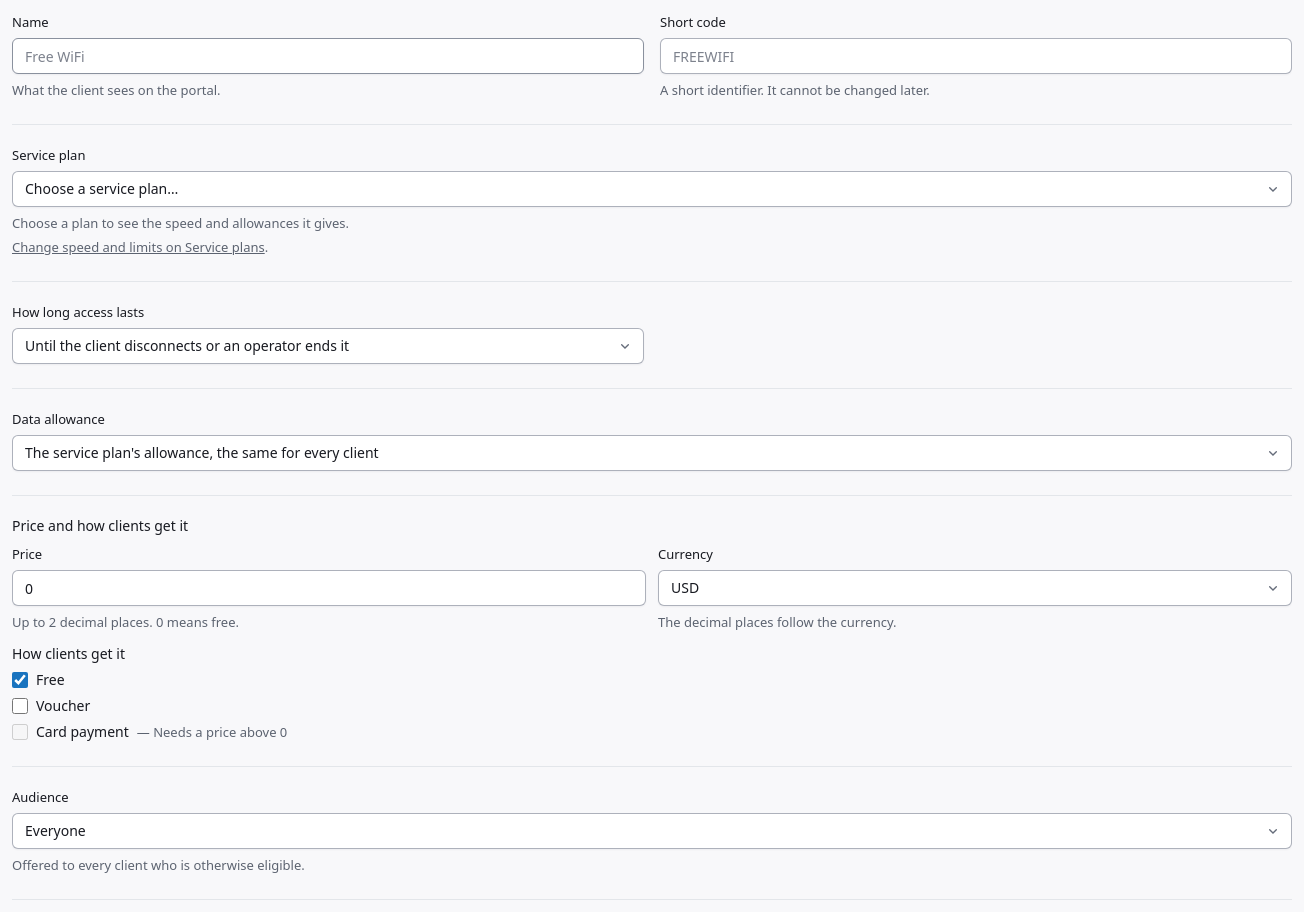
Test: Package defaults › says when there is no default active account at all
The width and height of the screenshot is (1304, 912).
Step 1. Type "5" into the field labelled "Price" → (329, 588), box [12,570,646,606]
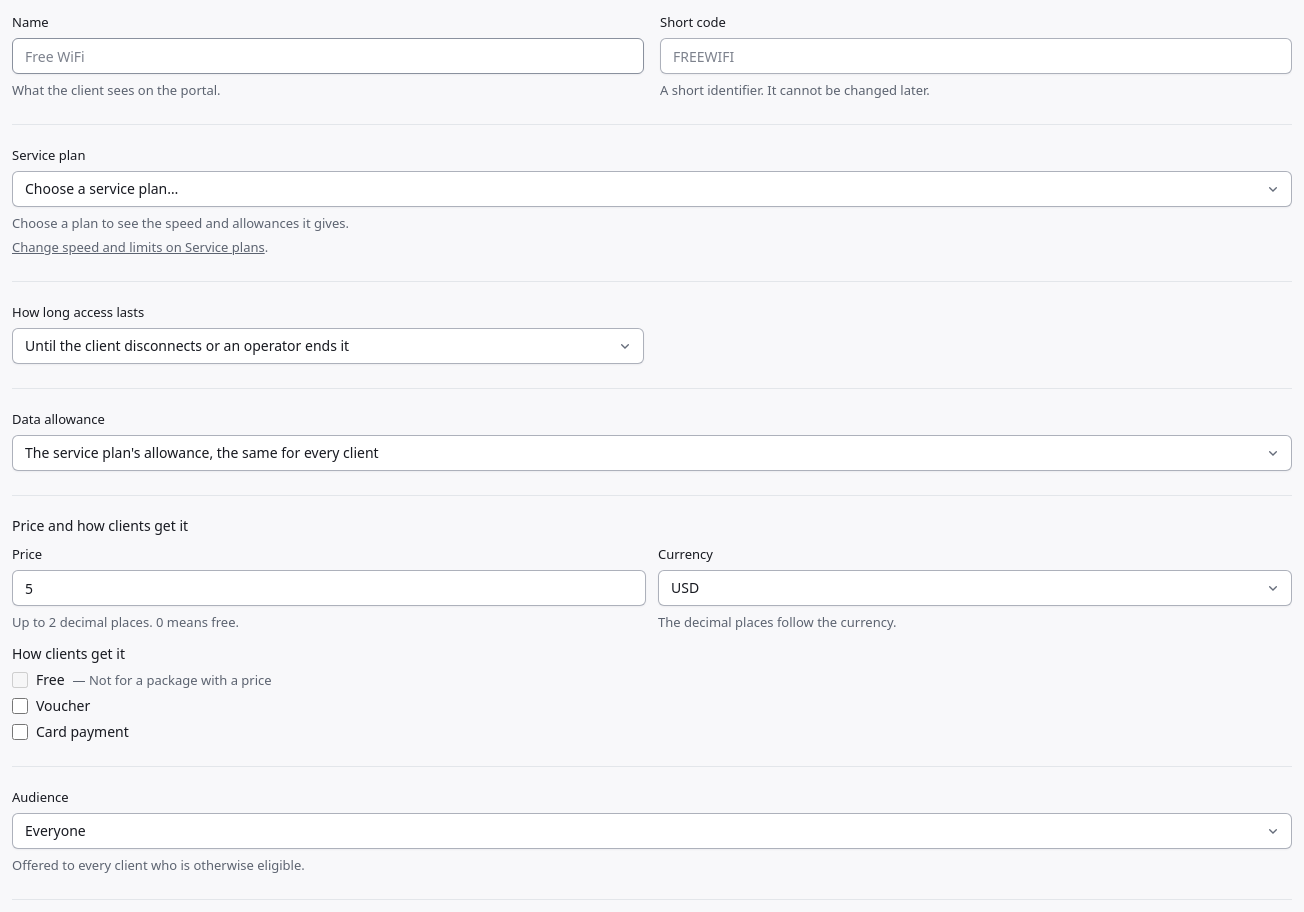
Step 2. Click the checkbox with test id "method-check-ONLINE_PAYMENT" → (20, 732), box [12,724,28,740]
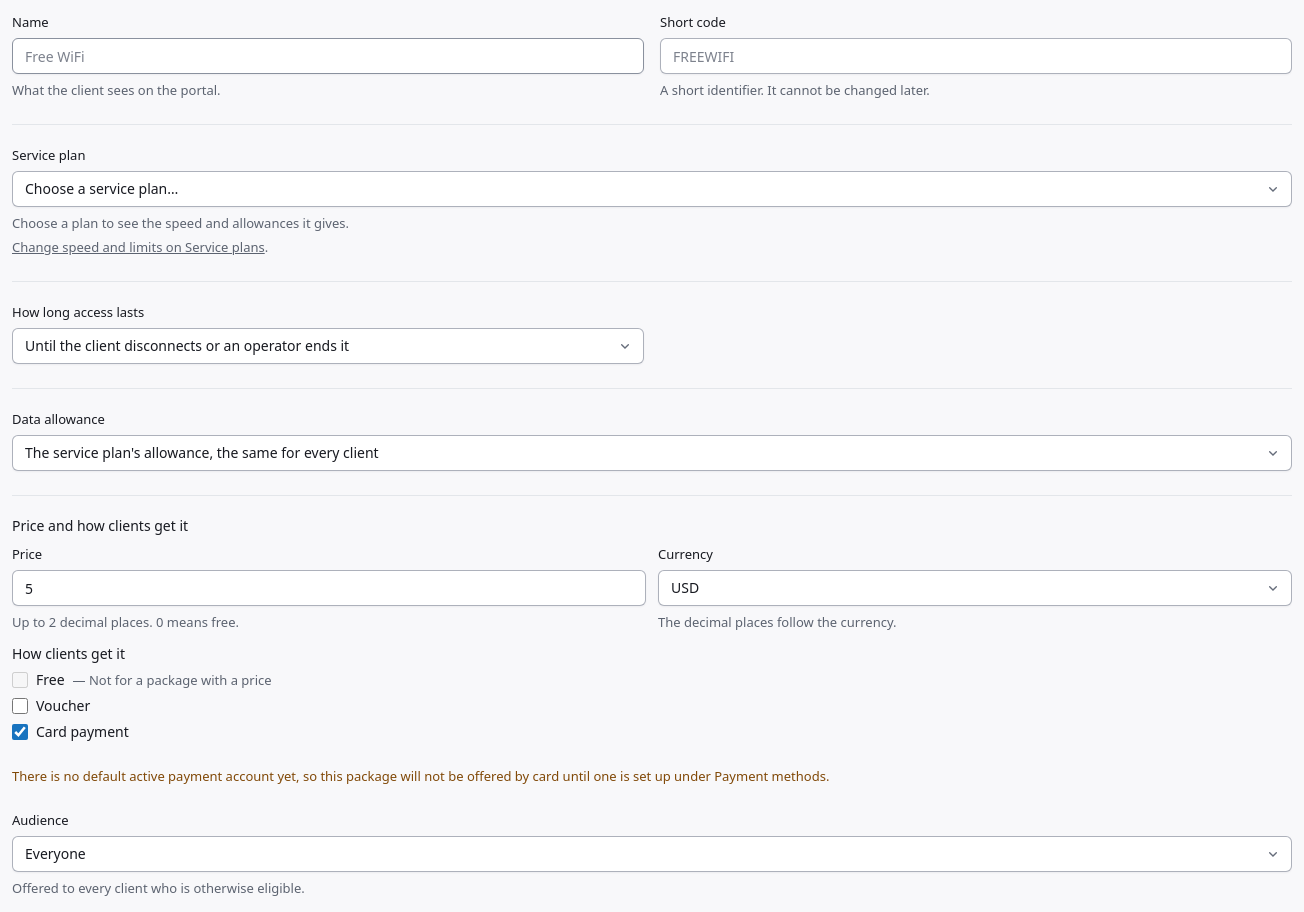
Now the message with test id "card-currency-note" shows "no default active payment account", box [12,767,829,785]
